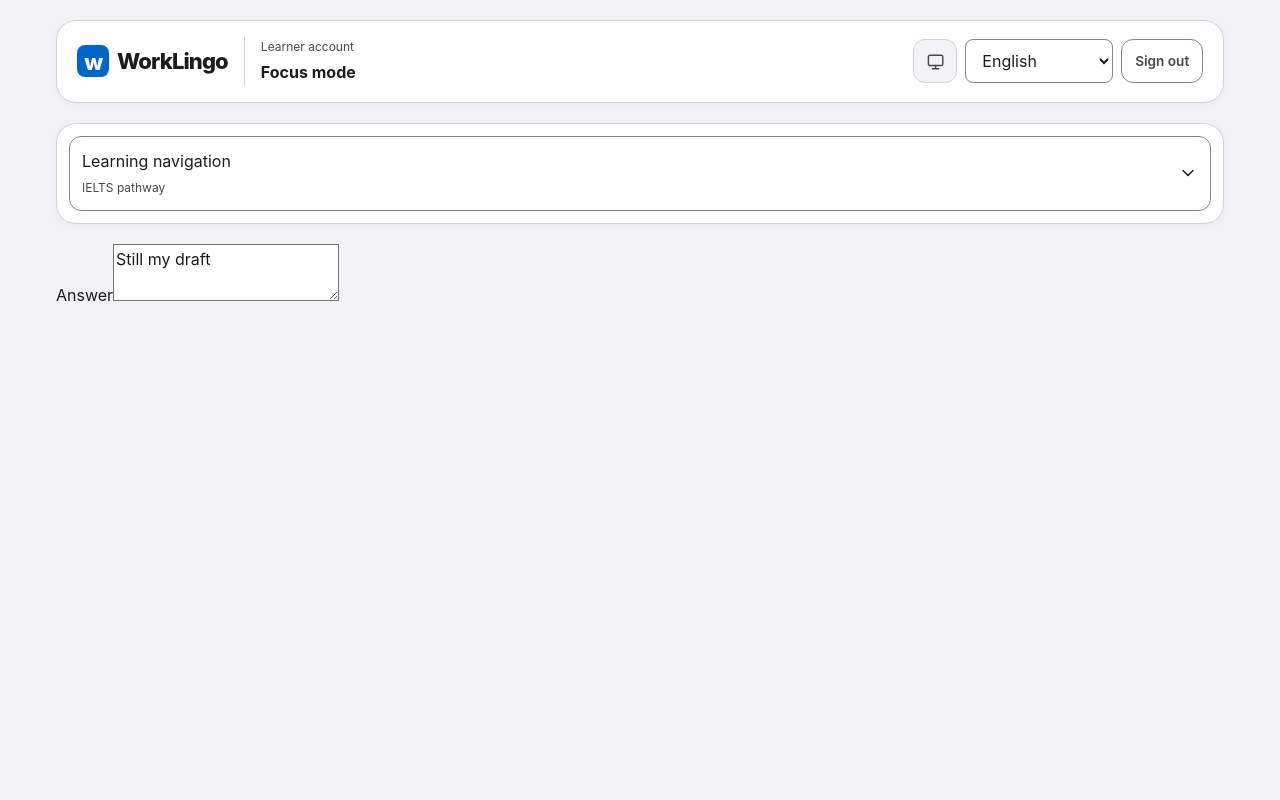
Test case: LearnerLayout › reduces shell chrome on /ielts/bridge/module-id without changing the destination
Check: the text "Focus mode" is shown, box [261,60,356,86]
Click the button "Learning navigation IELTS pathway" at x=156, y=161, box [69,136,1211,211]
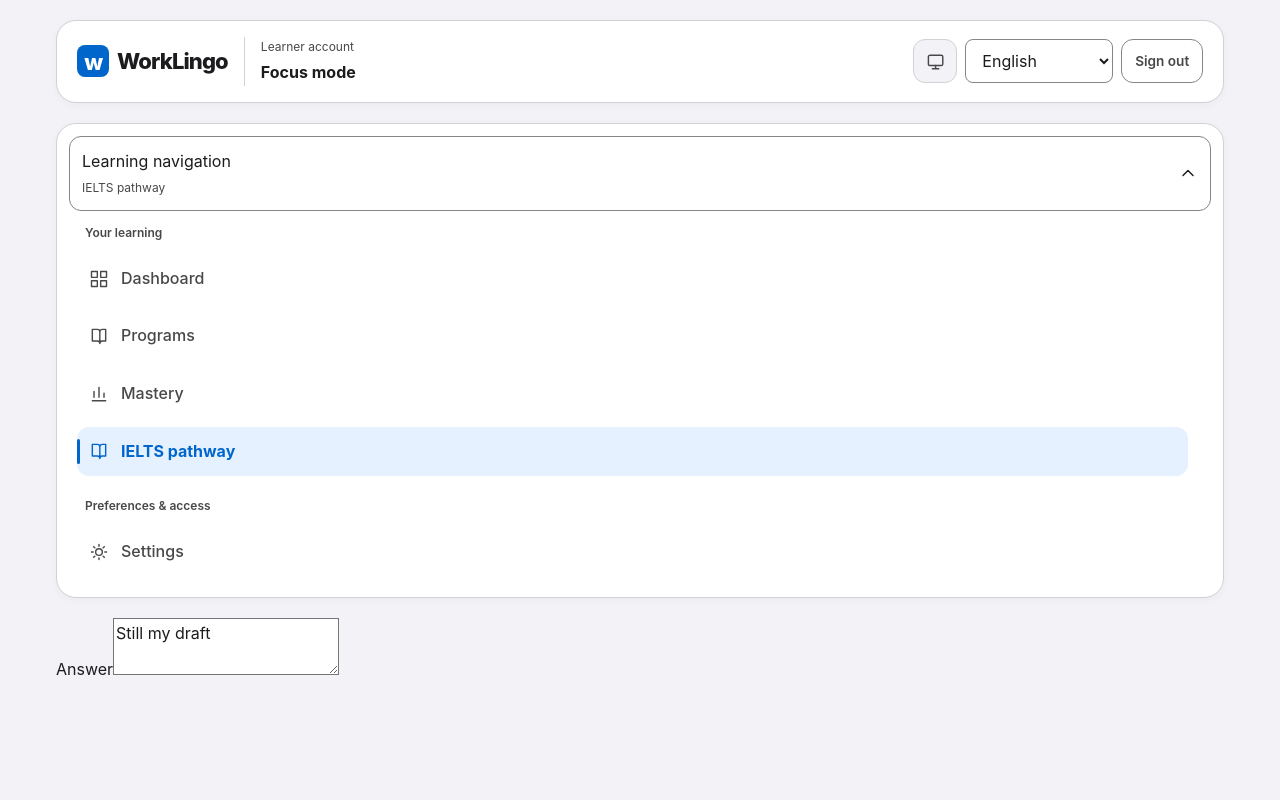
Press Escape in the button "Learning navigation IELTS pathway", box [69,136,1211,211]
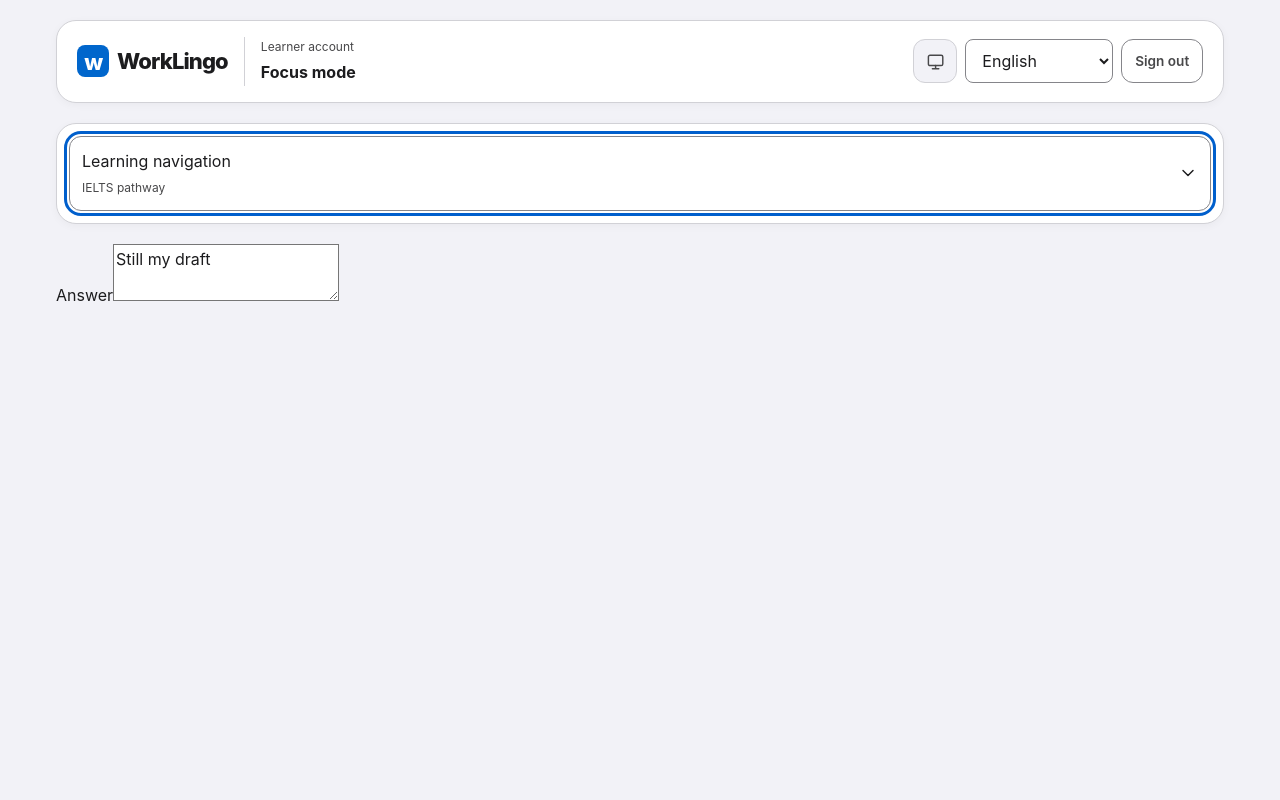
Check: the text box holds "Still my draft", box [113,244,339,301]
Check: the button "Learning navigation IELTS pathway" is collapsed, box [69,136,1211,211]
